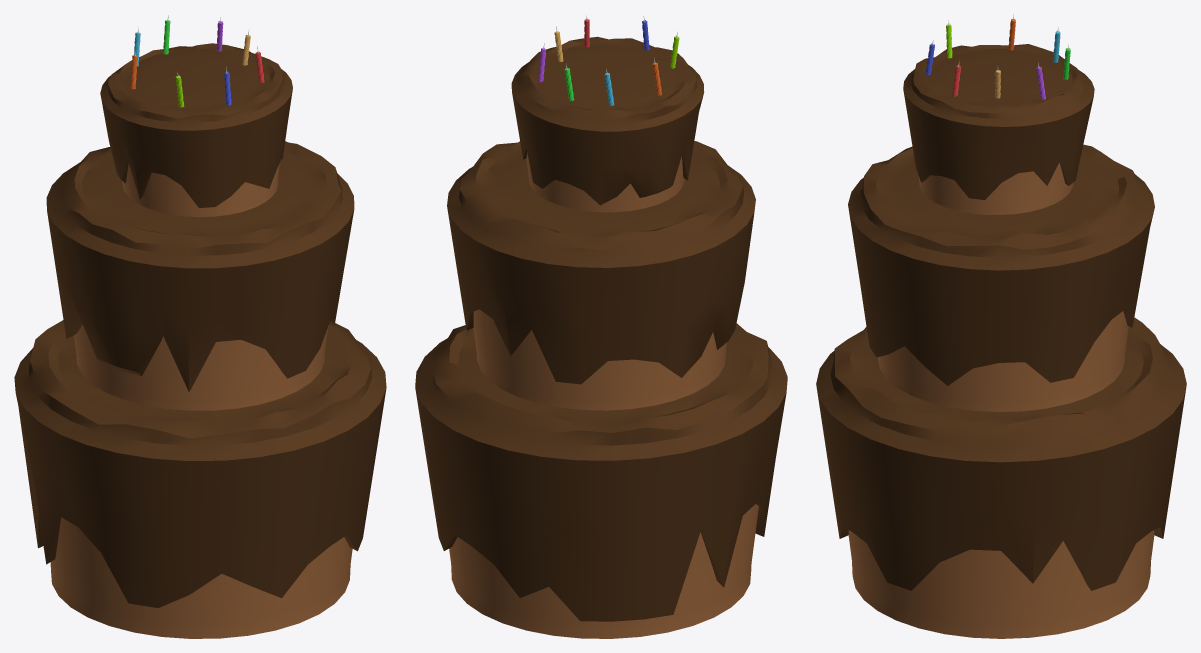
The model's file is cake.glb.
The picture shows the model from 3 angles, left to right: view 1: azimuth 30°, elevation 25°; view 2: azimuth 150°, elevation 25°; view 3: azimuth 270°, elevation 25°; orthographic projection.
Visible parts, largest first — view 1: Cylinder.001, Cylinder.003, Cylinder.005, Cylinder, Cylinder.002, Cylinder.004; view 2: Cylinder.001, Cylinder.003, Cylinder.005, Cylinder, Cylinder.002, Cylinder.004; view 3: Cylinder.001, Cylinder.003, Cylinder.005, Cylinder, Cylinder.002, Cylinder.004.
Boxes of the visible parts, left/top/right/bottom form: Cylinder.001: left=14, top=320, right=386, bottom=608; Cylinder.003: left=46, top=141, right=354, bottom=392; Cylinder.005: left=100, top=43, right=292, bottom=207; Cylinder: left=50, top=517, right=352, bottom=638; Cylinder.002: left=74, top=324, right=328, bottom=410; Cylinder.004: left=122, top=163, right=279, bottom=217; Cylinder.001: left=415, top=323, right=787, bottom=621; Cylinder.003: left=447, top=141, right=755, bottom=384; Cylinder.005: left=511, top=36, right=704, bottom=205; Cylinder: left=449, top=504, right=758, bottom=638; Cylinder.002: left=473, top=309, right=726, bottom=410; Cylinder.004: left=526, top=152, right=684, bottom=212; Cylinder.001: left=816, top=317, right=1186, bottom=590; Cylinder.003: left=848, top=144, right=1154, bottom=385; Cylinder.005: left=903, top=44, right=1094, bottom=199; Cylinder: left=848, top=530, right=1154, bottom=638; Cylinder.002: left=878, top=311, right=1128, bottom=411; Cylinder.004: left=918, top=162, right=1073, bottom=214.
Size of the model in its own units: 0.6225 by 0.9886 by 0.6224.
